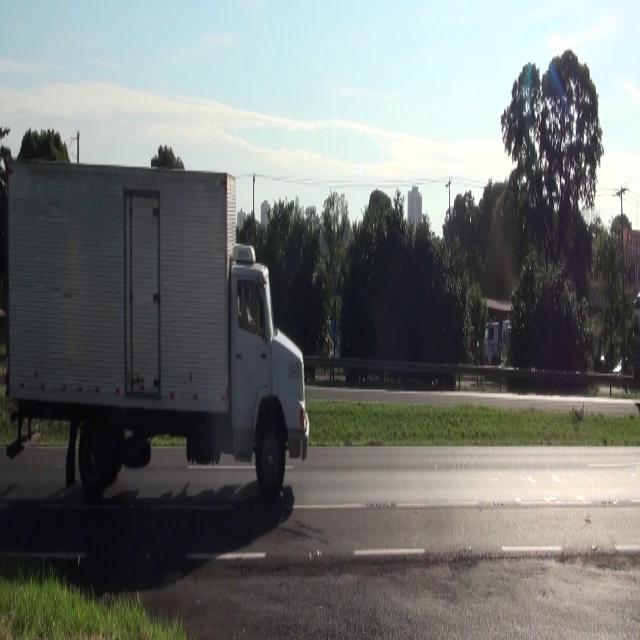-axle: (256, 409, 285, 496), (77, 418, 110, 491)
